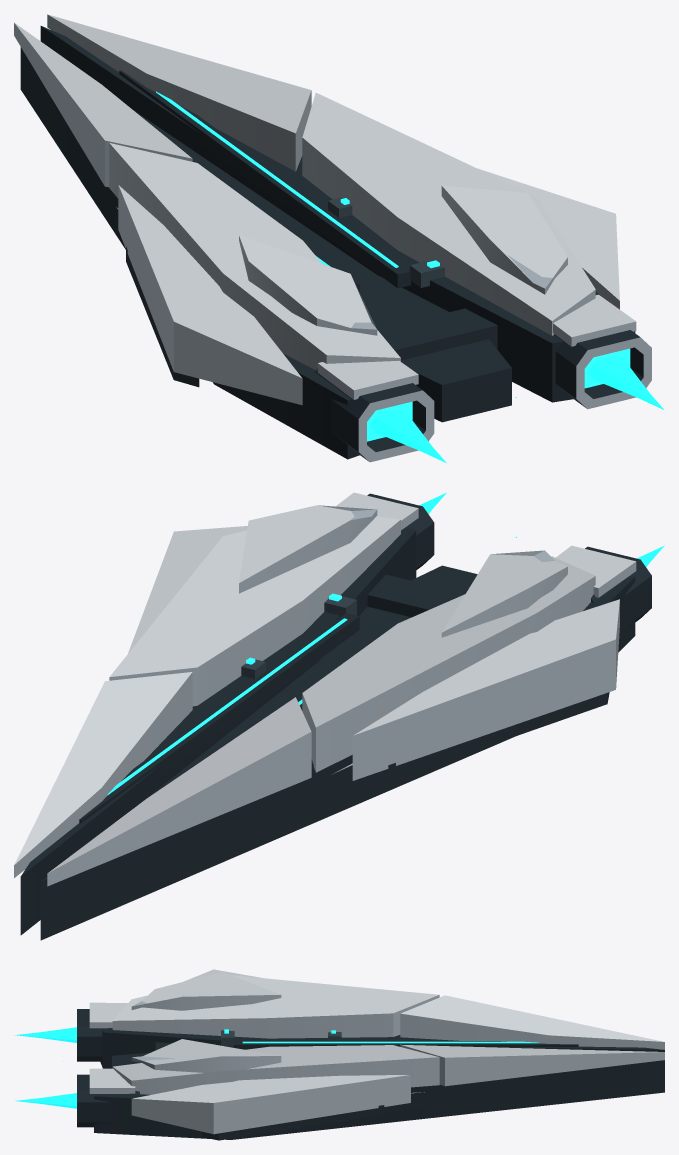
File: 02_fregatte.glb
The picture shows the model from 3 angles, top to bottom: view 1: azimuth 30°, elevation 25°; view 2: azimuth 150°, elevation 25°; view 3: azimuth 270°, elevation 25°; orthographic projection. The views are drawn at different scales.
Visible parts, largest first — view 1: Hull, energy_2, energy_1; view 2: Hull; view 3: Hull, energy_1, energy_2.
Boxes of the visible parts, x1,y1,x2,y2 form: Hull: (14, 14, 651, 462); energy_2: (584, 348, 663, 409); energy_1: (367, 401, 446, 463); Hull: (14, 492, 651, 940); Hull: (77, 969, 664, 1140); energy_1: (14, 1027, 76, 1042); energy_2: (15, 1093, 76, 1108).
Bounding box in the file's own units: 4.52 × 1.19 × 9.31.
